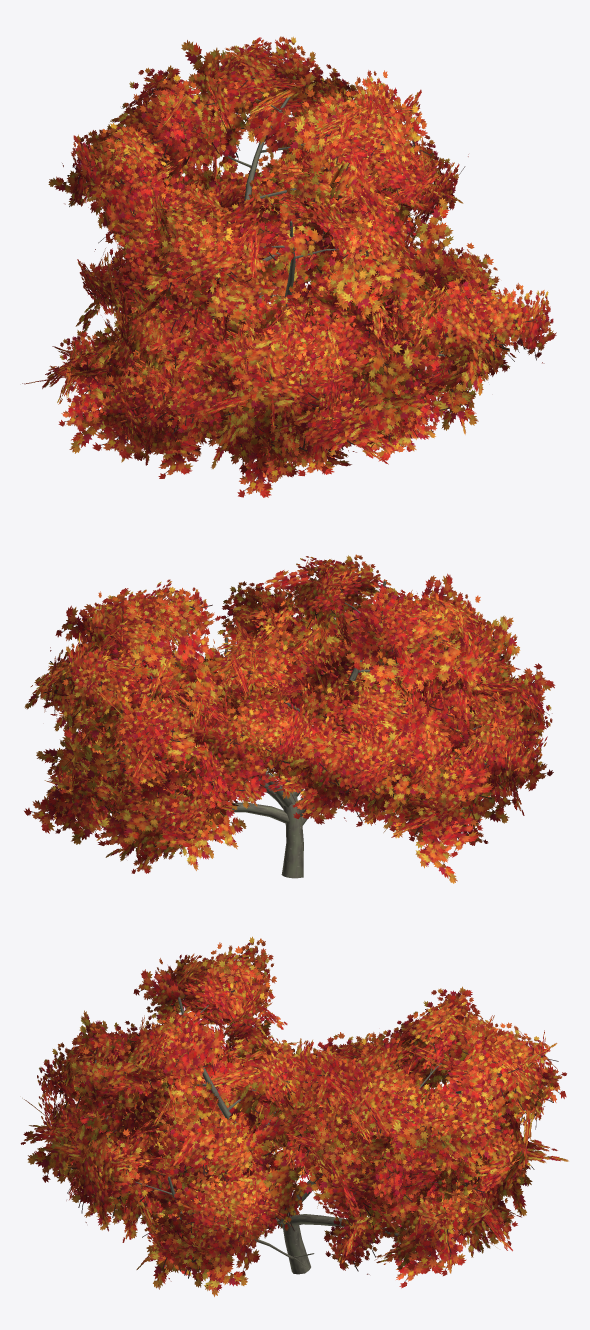
Rendered from Momiji_C.fbx.
3 renders of one model, top to bottom at view 1: azimuth 30°, elevation 25°; view 2: azimuth 150°, elevation 25°; view 3: azimuth 270°, elevation 25°, orthographic. The views are drawn at different scales.
Parts seen in each view (by area): view 1: Momiji_C; view 2: Momiji_C; view 3: Momiji_C.
Part boxes in pixels (<box>): Momiji_C: <box>22,36,556,497</box>; Momiji_C: <box>24,554,555,883</box>; Momiji_C: <box>20,936,568,1296</box>.
Bounding box in the file's own units: 7.58 × 5.09 × 8.57.
Materials: 2 (2 with a texture image).
